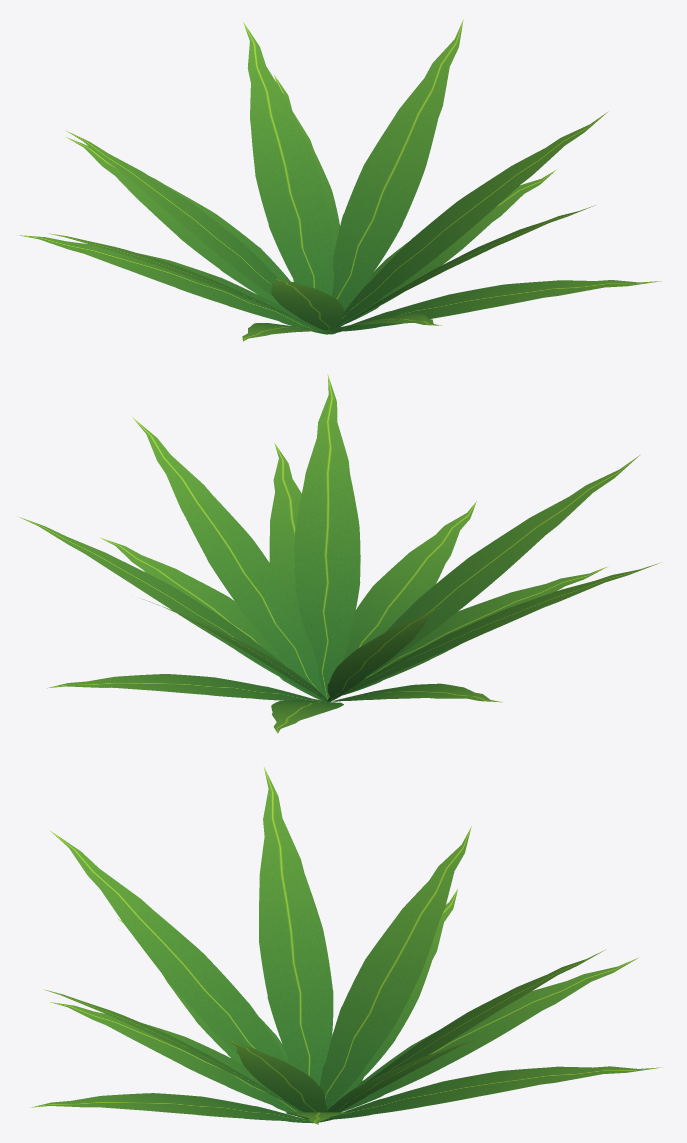
File: arbusto.obj
3 renders of one model, top to bottom at view 1: azimuth 30°, elevation 25°; view 2: azimuth 150°, elevation 25°; view 3: azimuth 270°, elevation 25°, orthographic. The views are drawn at different scales.
Parts seen in each view (by area): view 1: arbusto; view 2: arbusto; view 3: arbusto.
Part boxes in pixels (x1,y1,x2,y2): arbusto: (17,19,661,341); arbusto: (18,374,660,733); arbusto: (31,767,662,1124).
Bounding box in the file's own units: 1.34 × 0.45 × 1.33.
Materials: 1 (1 with a texture image).
